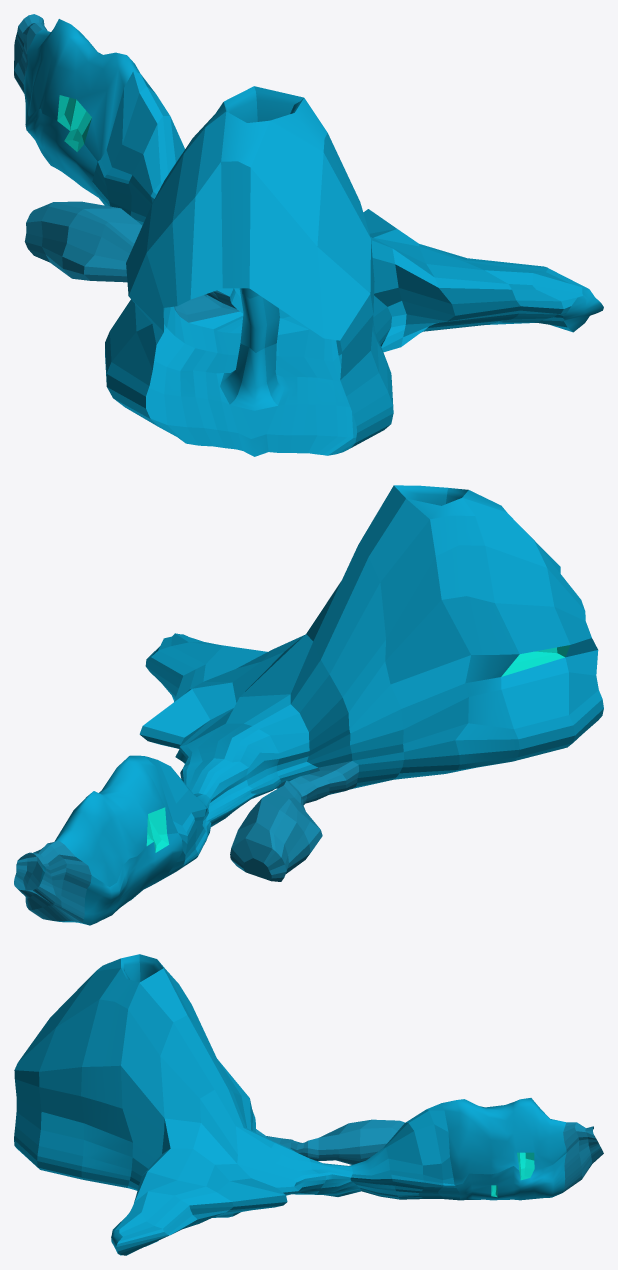
The model's file is Cave_Feb_11_draft.fbx.
3 views of the same model, one above another, from view 1: azimuth 30°, elevation 25°; view 2: azimuth 150°, elevation 25°; view 3: azimuth 270°, elevation 25° (orthographic). The views are drawn at different scales.
Parts seen in each view (by area): view 1: pCube3; view 2: pCube3; view 3: pCube3.
Boxes of the visible parts, x1,y1,x2,y2 form: pCube3: (14, 14, 603, 456); pCube3: (14, 485, 603, 925); pCube3: (14, 954, 603, 1255).
Size of the model in its own units: 500 by 293 by 793.
